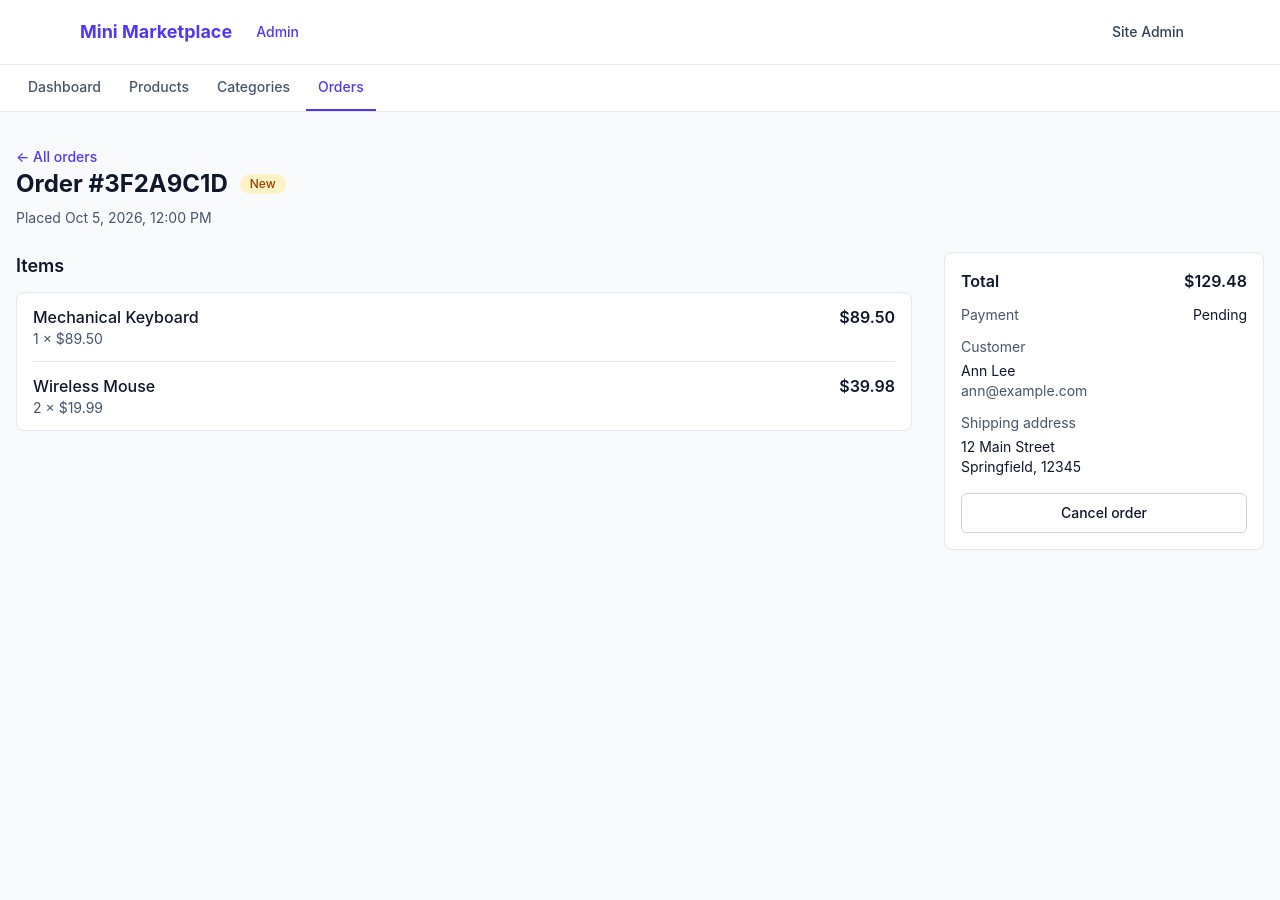
Test: an admin order page › says the order moved on when the customer got there first, and shows where it is now
Click the button "Cancel order": [1104, 513] box [961, 493, 1247, 533]
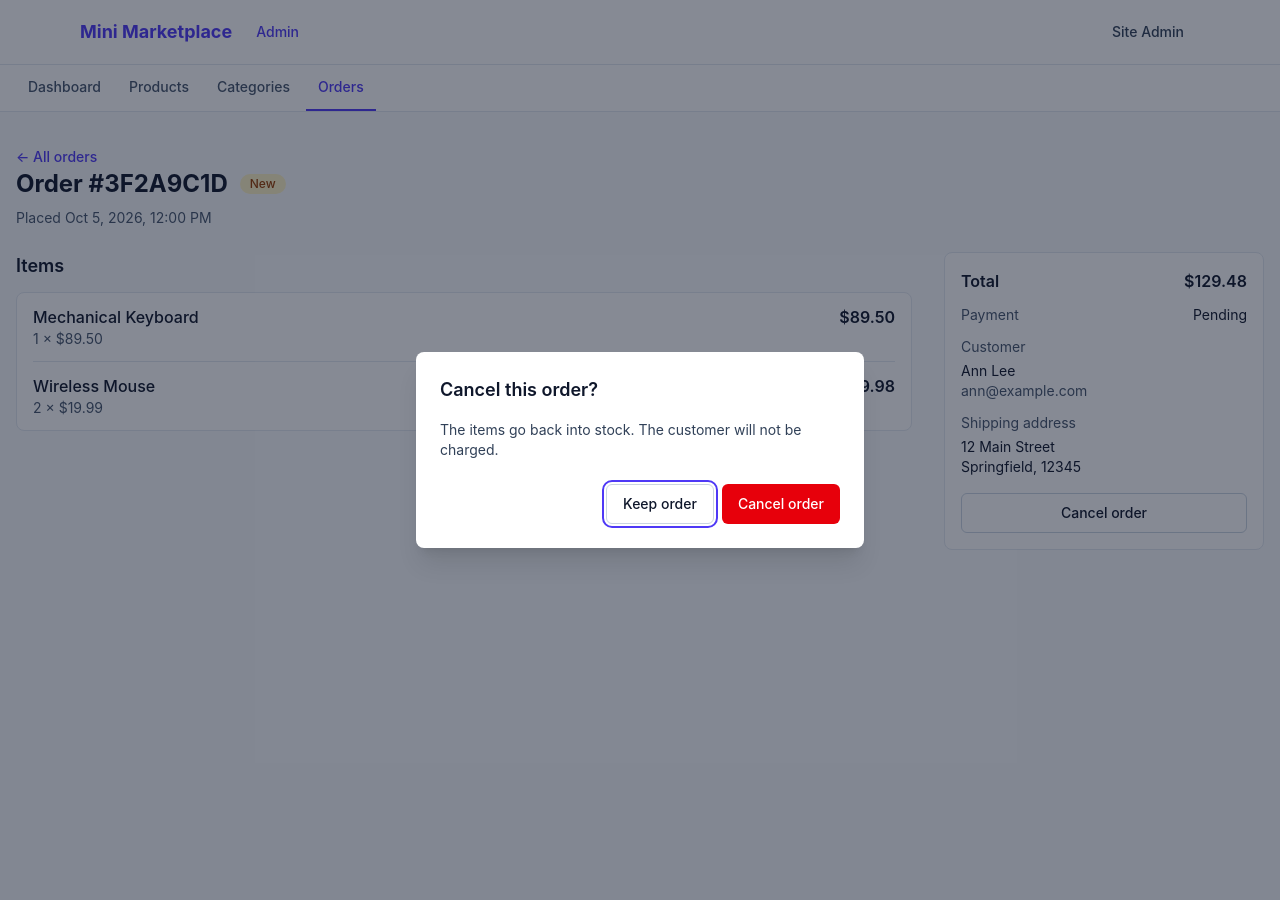
Click the button "Cancel order": [781, 504] box [722, 484, 840, 524]
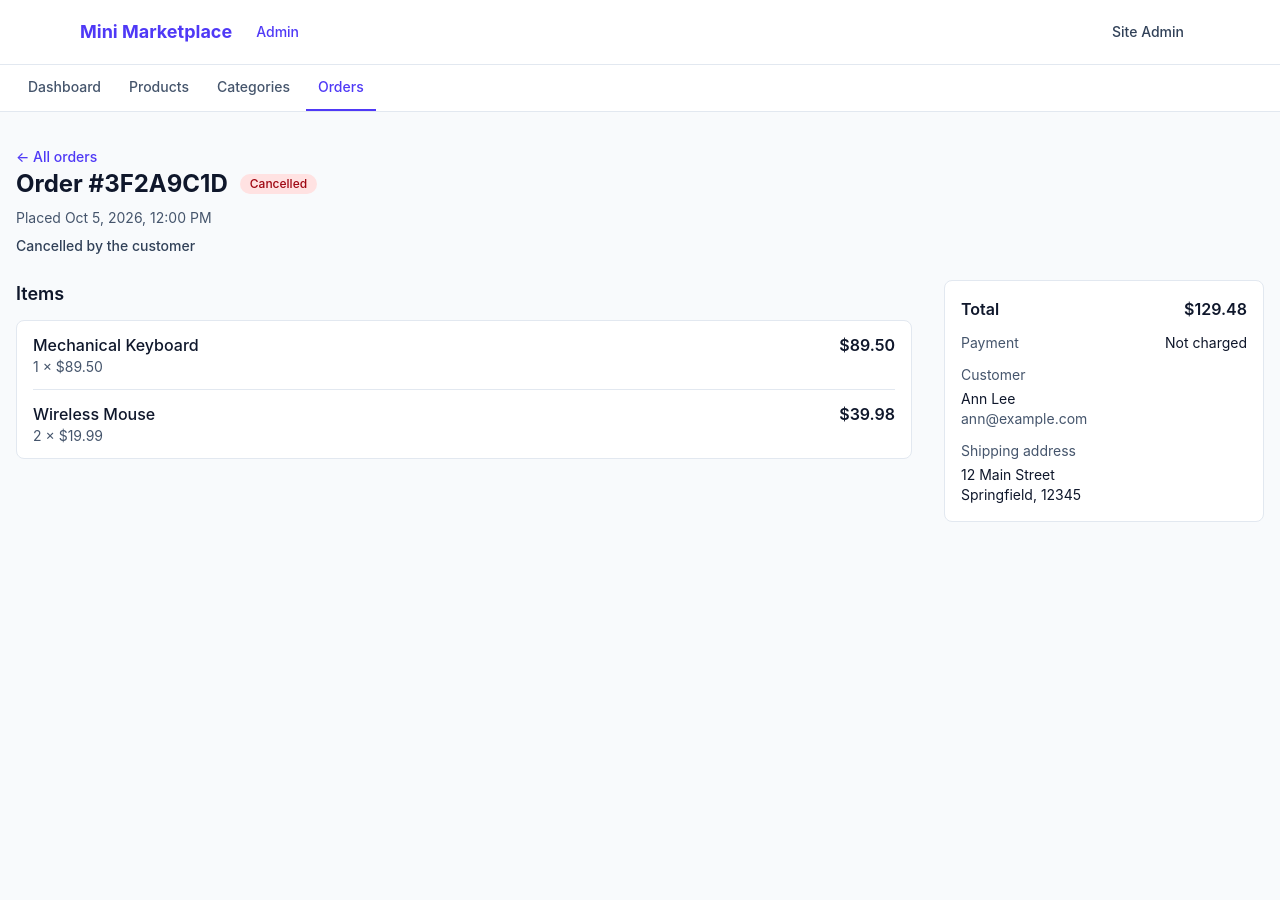
Now the text "Cancelled by the customer" is shown, box [16, 237, 195, 254]
